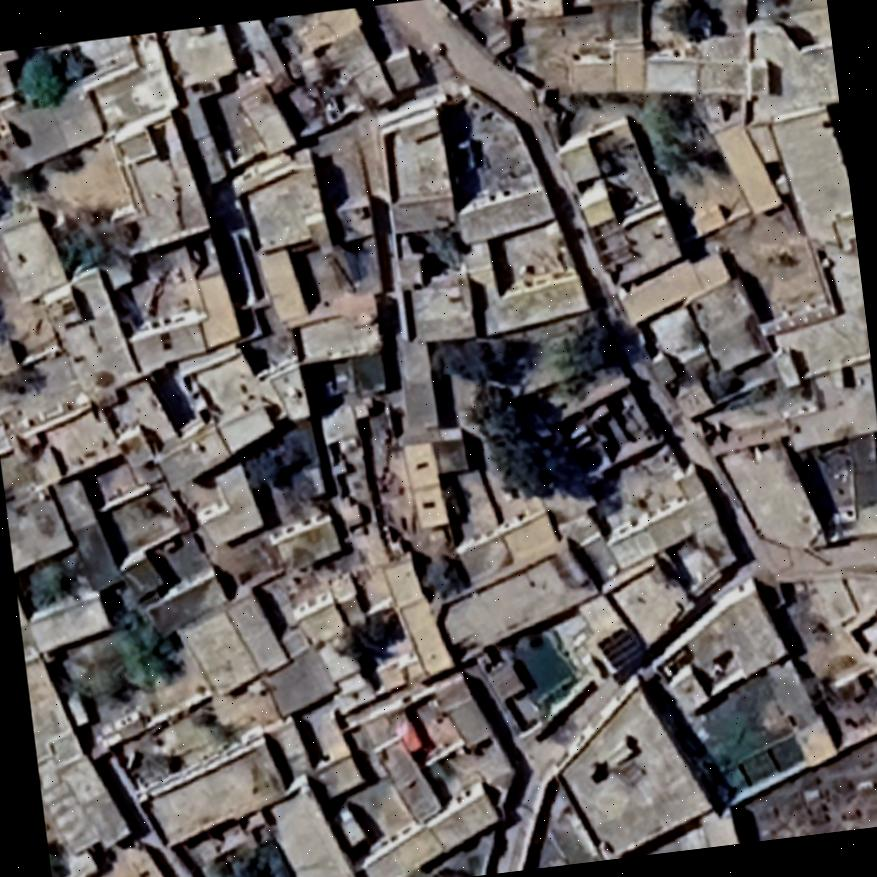Solarpanel: (594, 625, 649, 679)
